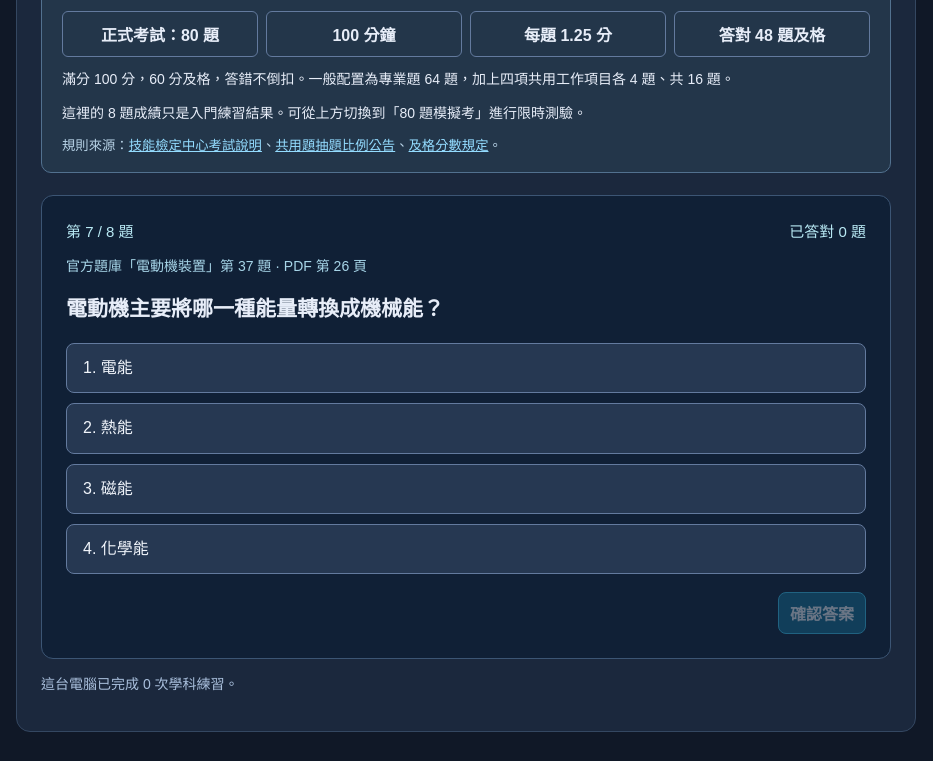
Test: B11 practice screen › reviews eight wrong answers and keeps the full quiz record unchanged
This screenshot has width=933, height=761.
Earlier steps of the test are not shown.
Later steps or results of the test are not shown.
(page scrolled)
What coordinates should you click on to do the following:
click the button "2. 熱能"
I would click on:
 (117, 428)
Its box is [66, 403, 866, 454].
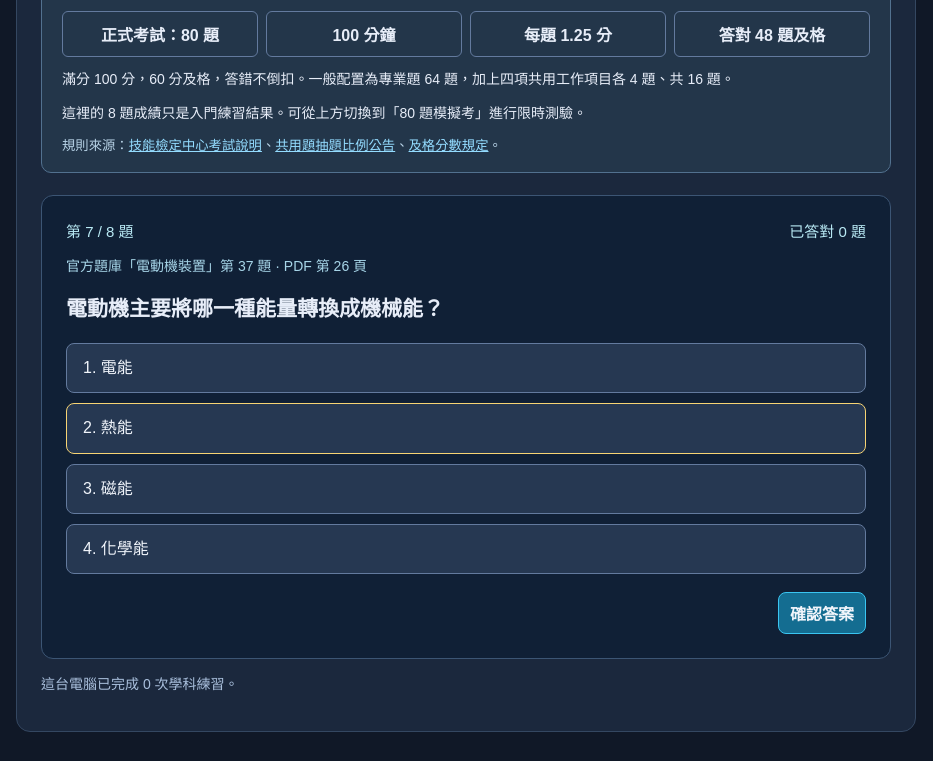
What coordinates should you click on to do the following:
click the button "確認答案"
I would click on:
 (822, 613)
Its box is [778, 592, 866, 634].
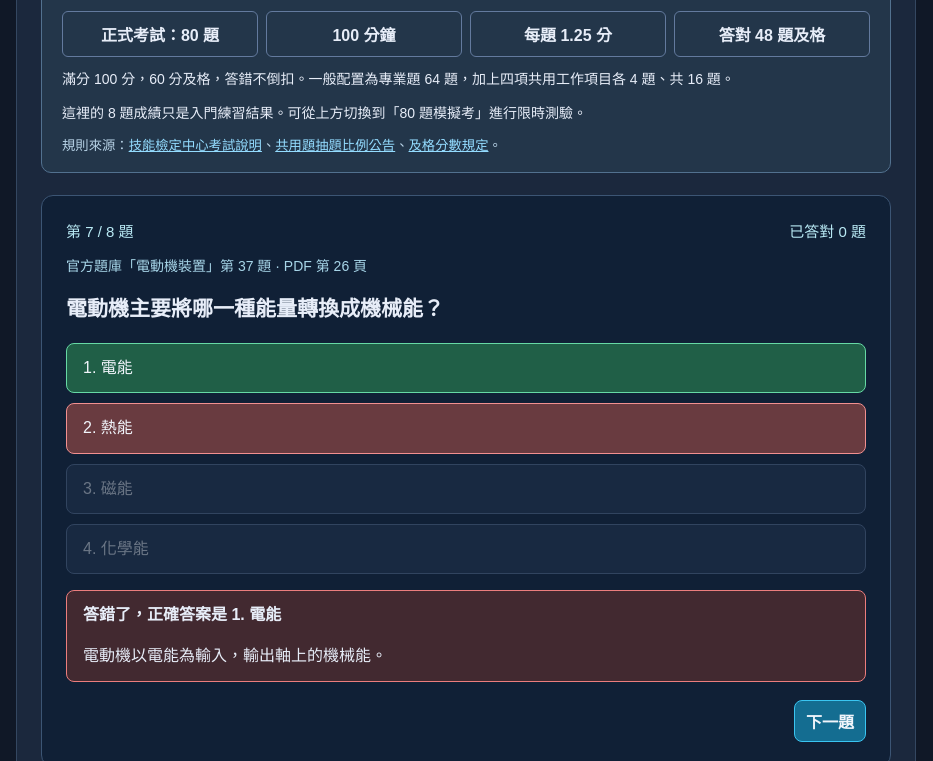
What coordinates should you click on to do the following:
click the button "下一題"
I would click on:
 (830, 721)
Its box is [794, 700, 866, 742].
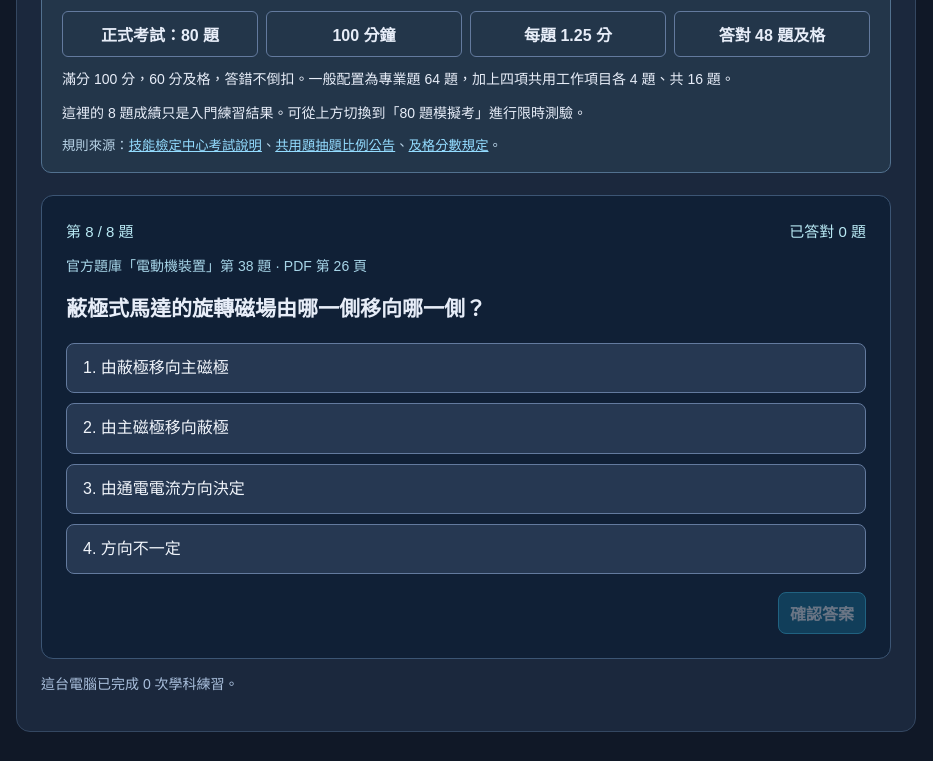
What coordinates should you click on to do the following:
click the button "3. 由通電電流方向決定"
I would click on:
 (173, 488)
Its box is [66, 464, 866, 514].
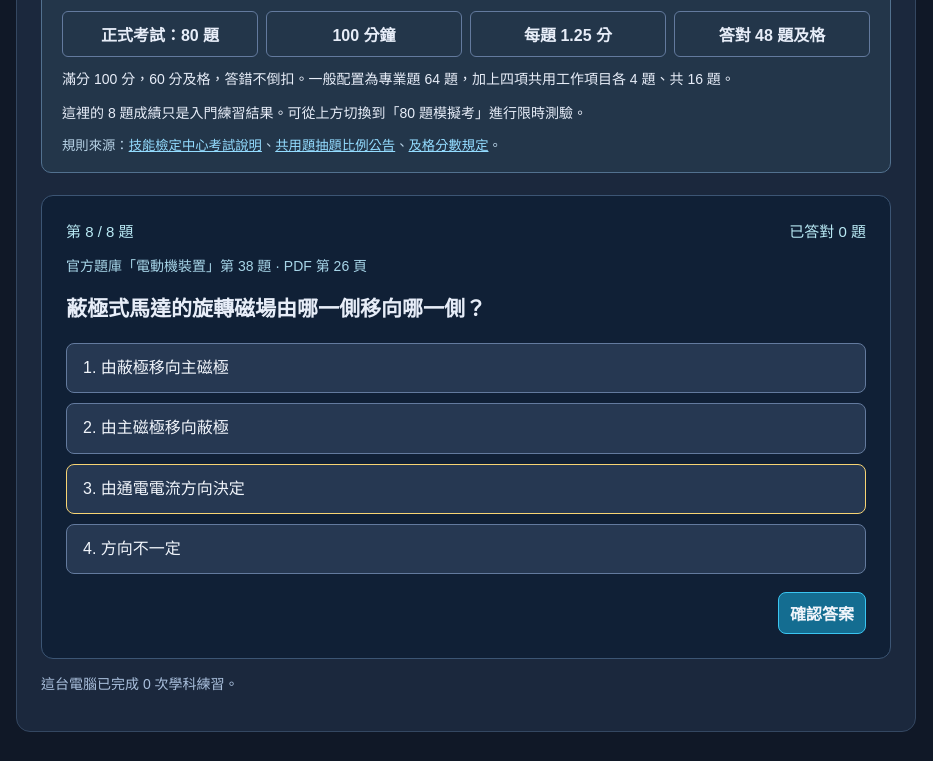
What coordinates should you click on to do the following:
click the button "確認答案"
I would click on:
 (822, 613)
Its box is [778, 592, 866, 634].
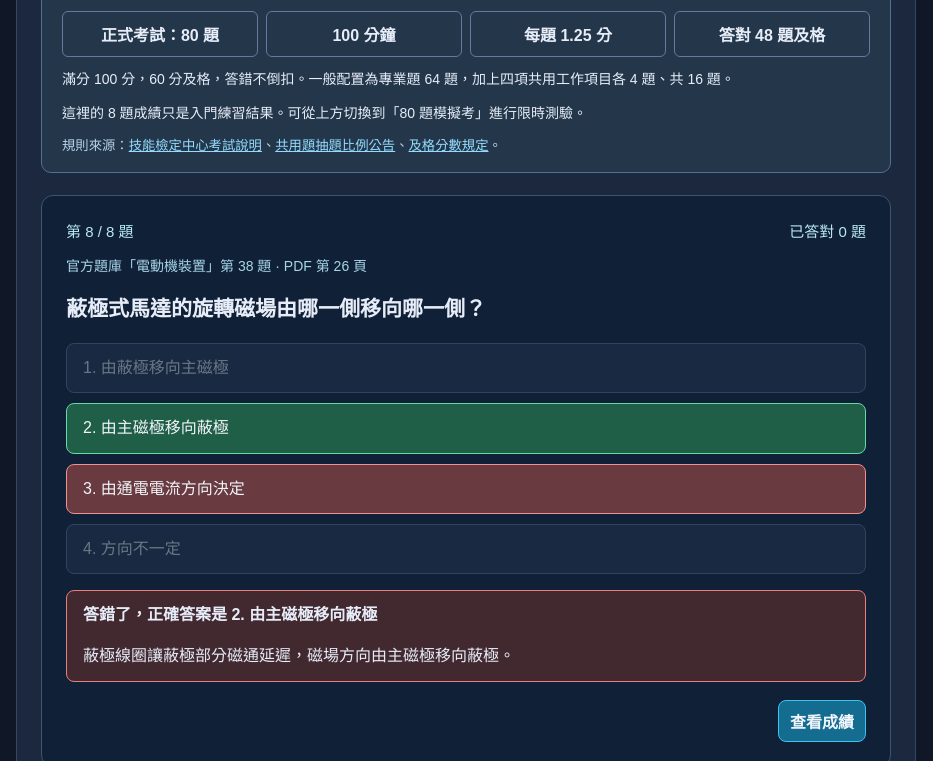
What coordinates should you click on to do the following:
click the button "查看成績"
I would click on:
 (822, 721)
Its box is [778, 700, 866, 742].
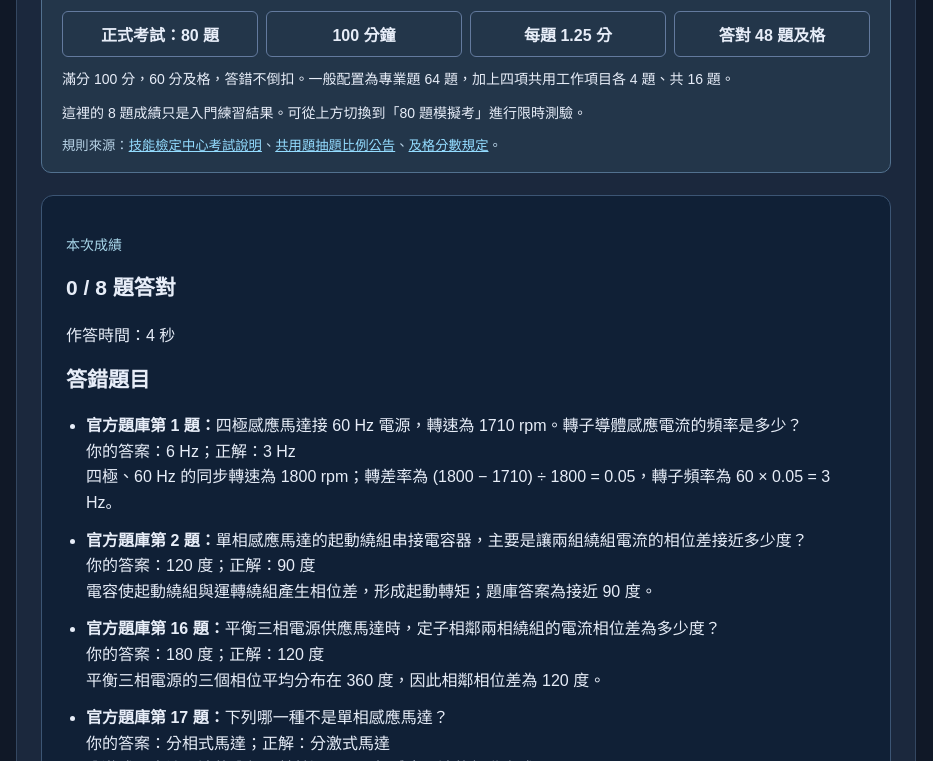
Now the heading "0 / 8 題答對" is shown, box [66, 276, 176, 299]
